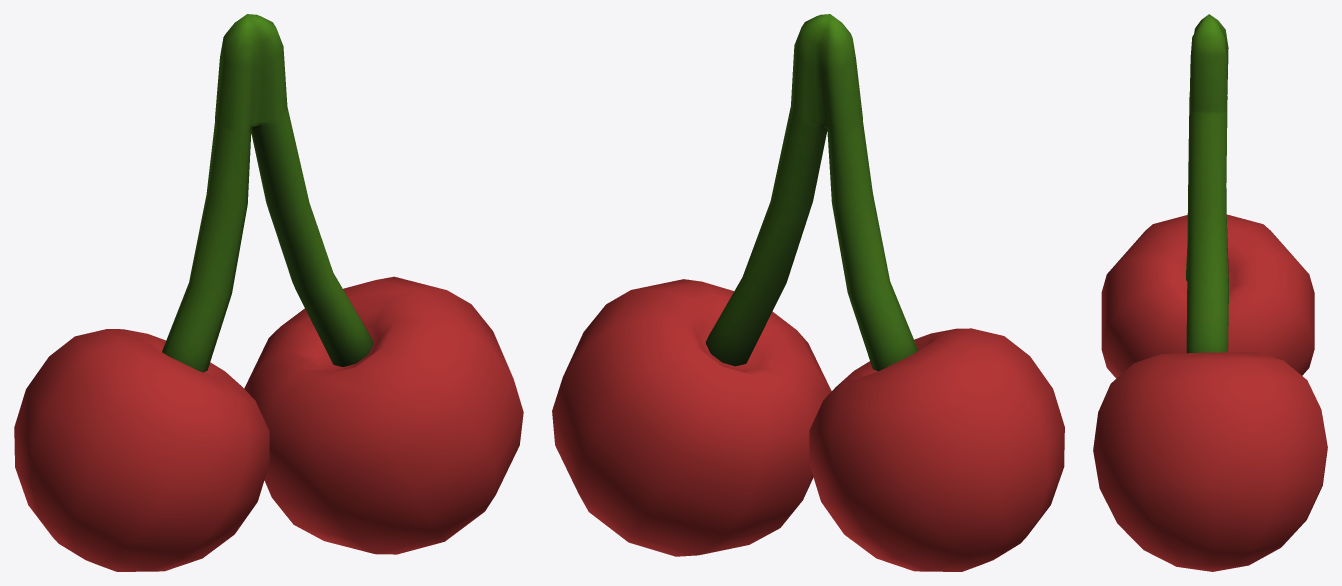
Rendered from 0-cherry.fbx.
3 renders of one model, left to right at view 1: azimuth 30°, elevation 25°; view 2: azimuth 150°, elevation 25°; view 3: azimuth 270°, elevation 25°, orthographic. The views are drawn at different scales.
Visible parts, largest first — view 1: 0-cherry; view 2: 0-cherry; view 3: 0-cherry.
Part boxes in pixels (x1=…): 0-cherry: x1=14, y1=14, x2=523, y2=571; 0-cherry: x1=552, y1=14, x2=1064, y2=571; 0-cherry: x1=1093, y1=14, x2=1327, y2=571.
Bounding box in the file's own units: 84.11 × 95.06 × 41.48.
